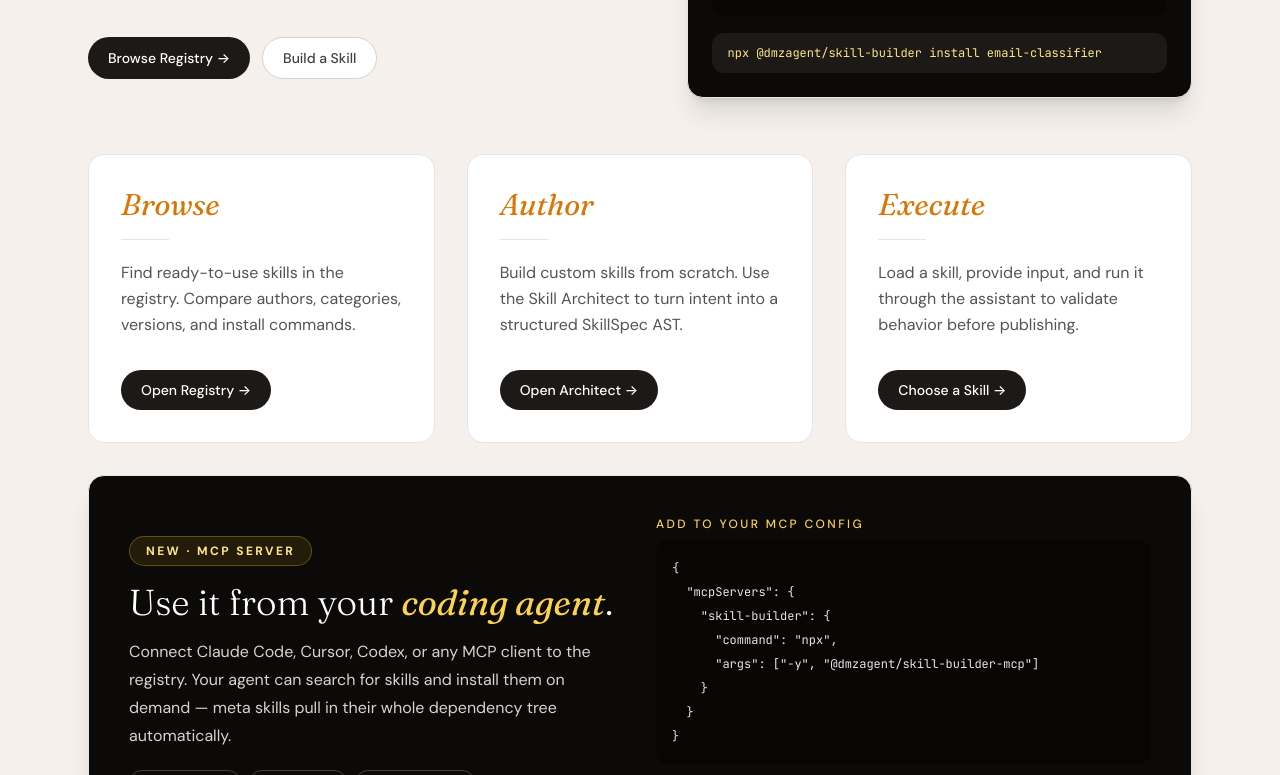
Test: App › Navigation › opens browse content from Execute card
(page scrolled)
Step 1. Click the button "Choose a Skill →" → (952, 390), box [878,370,1026,410]
(page scrolled)
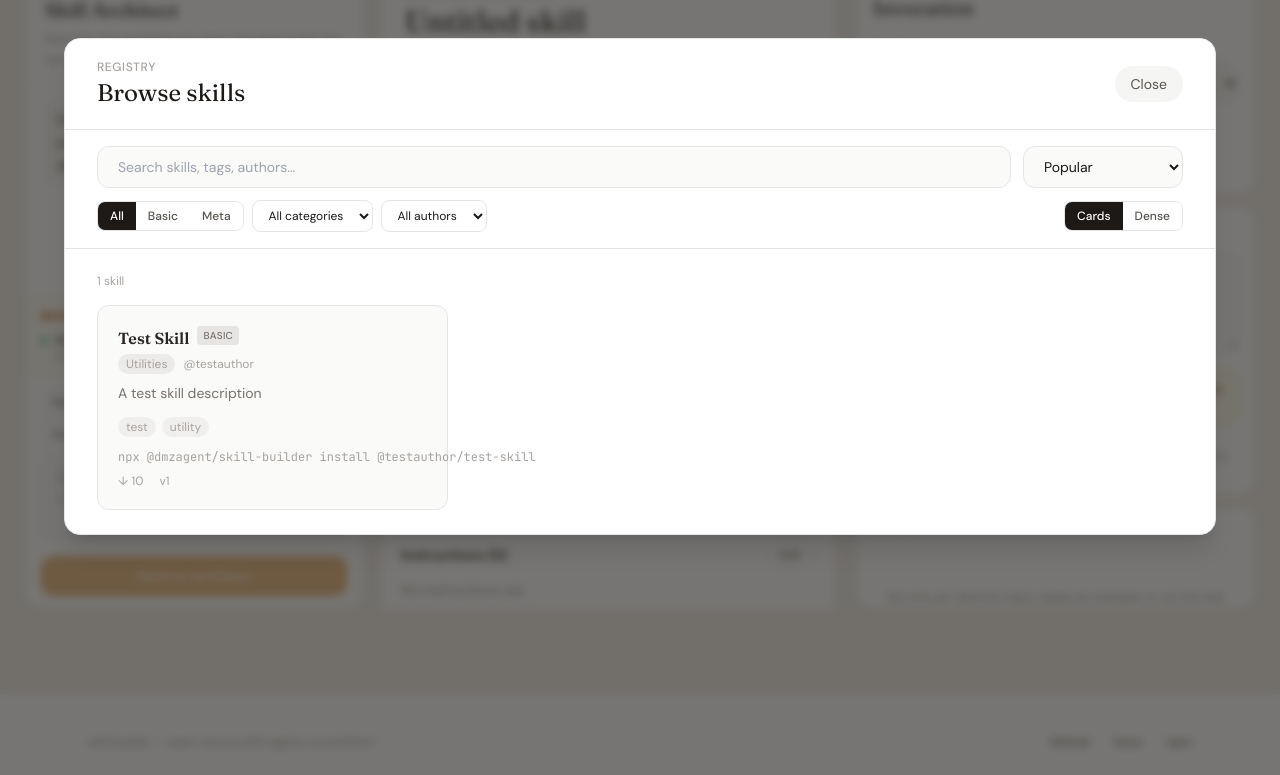
Check: the heading "Browse skills" is shown, box [97,77,245,109]
